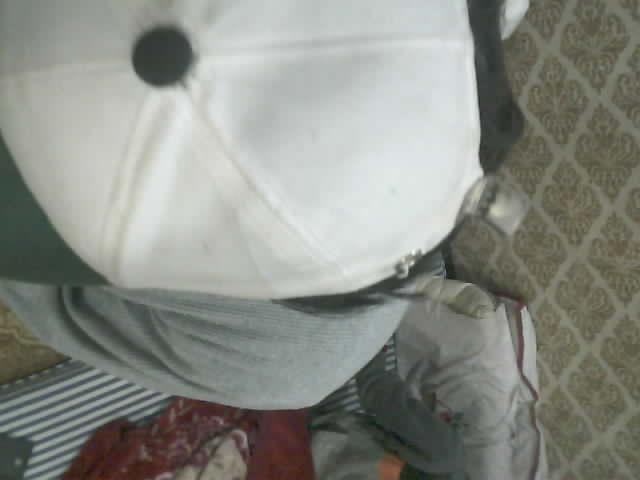cap: (0, 0, 483, 303)
